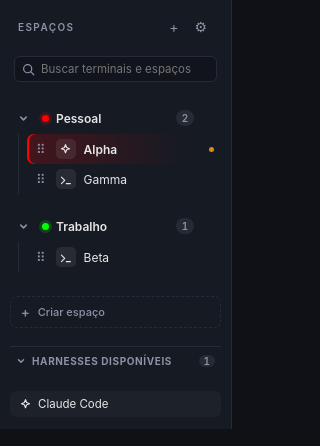
Sidebar: seção de harnesses › recolhe e expande a lista de harnesses
Expected: the element with test id "sidebar-harness-list" is shown, left=10, top=391, right=221, bottom=419
Click the button with test id "harness-section-toggle".
click(116, 360)  # box left=10, top=346, right=221, bottom=373
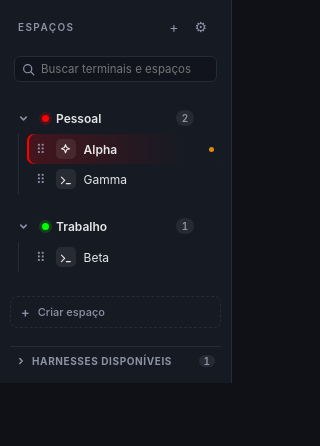
Now the element with test id "sidebar-harness-list" is gone
